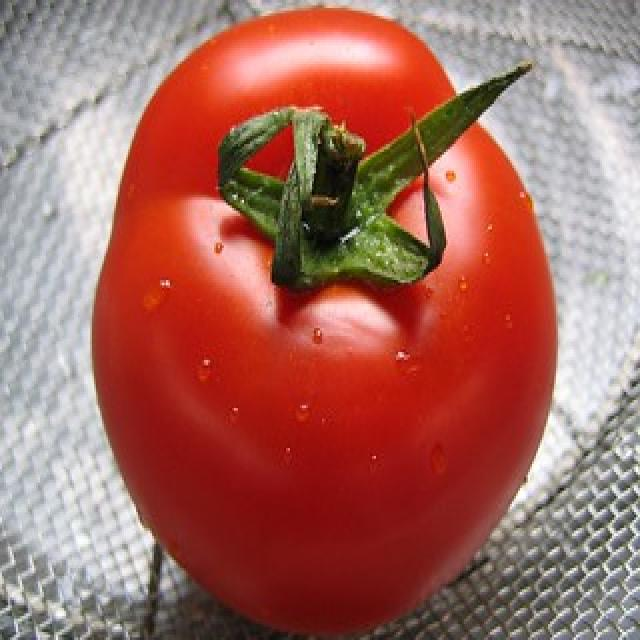Tomato: (74, 6, 566, 640)
